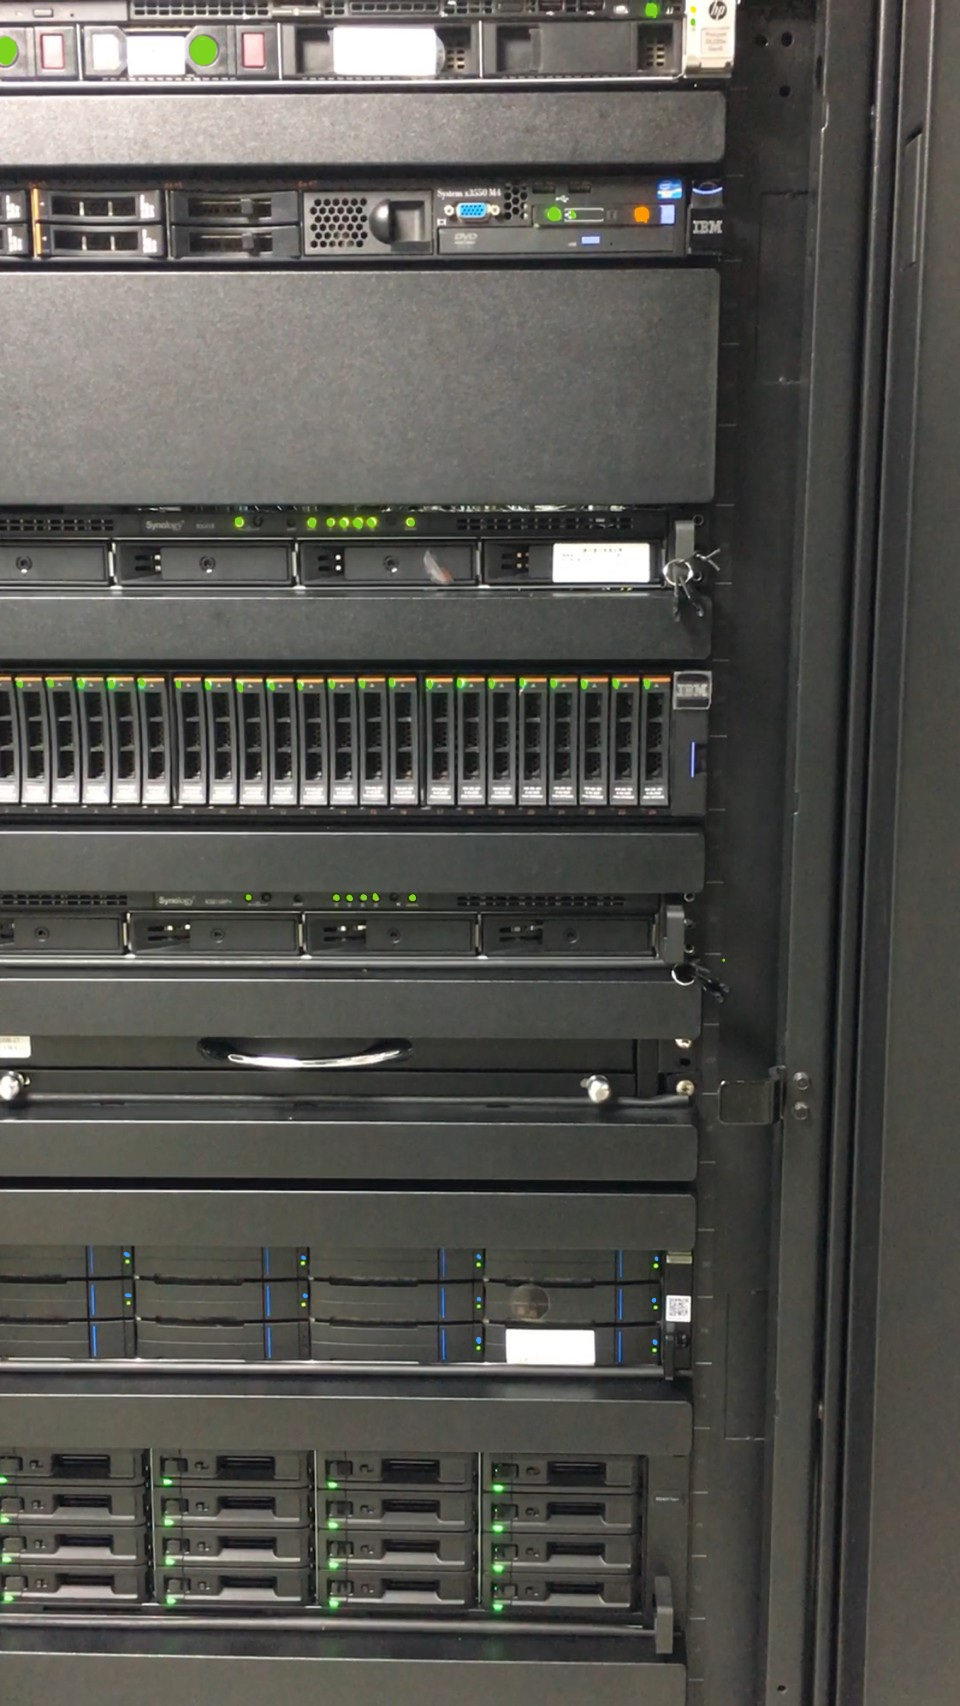HDD_Notused: (168, 224, 304, 262), (161, 192, 302, 225)
HDD_shut down: (28, 220, 165, 258), (26, 186, 162, 221), (1, 225, 27, 261), (1, 189, 30, 214)
